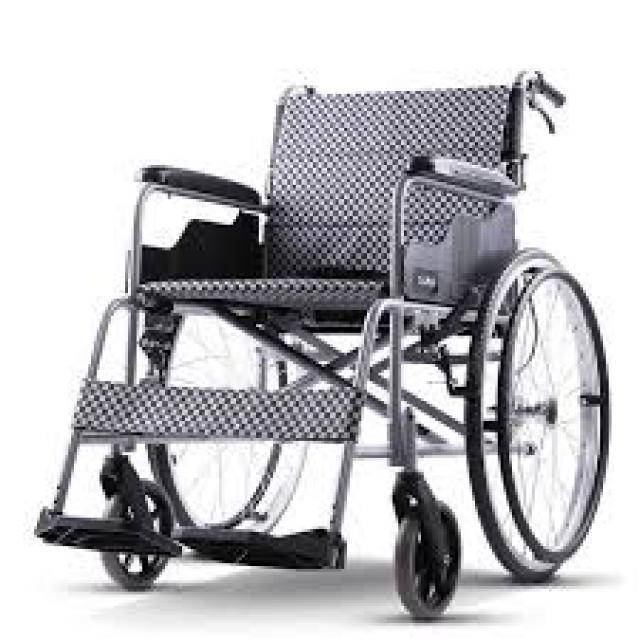wheelchair: (22, 57, 620, 638)
